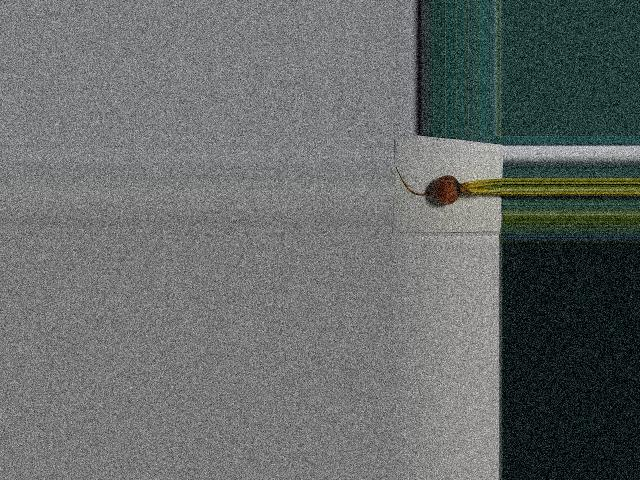beet: (395, 167, 502, 204)
